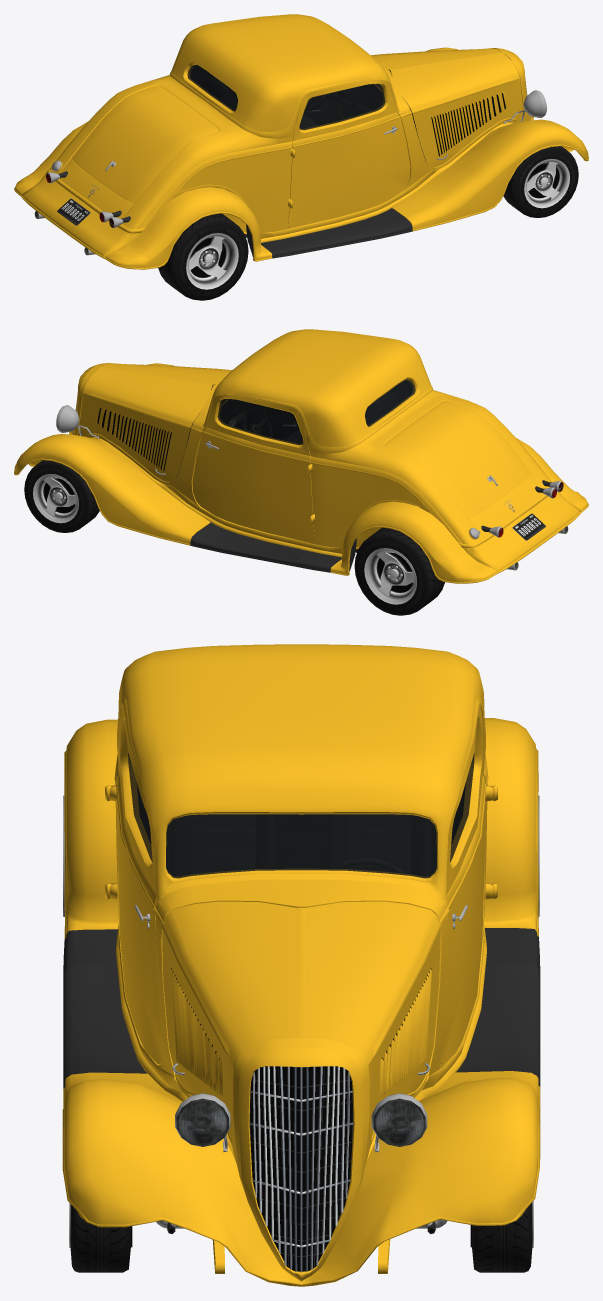
3 renders of one model, top to bottom at view 1: azimuth 30°, elevation 25°; view 2: azimuth 150°, elevation 25°; view 3: azimuth 270°, elevation 25°, orthographic. The views are drawn at different scales.
Parts seen in each view (by area): view 1: HOTROD_33A_body_HOTROD_33_bodymat_0, HOTROD_33B_Sideskirts_HOTROD_33_bodymat_0, HOTROD_33A_HoodStock_HOTROD_33_bodymat_0, HOTROD_33A_Trunkdoor_HOTROD_33_bodymat_0, HOTROD_33_WheelBlades_RR_RB1c_Tire_1k_0, HOTROD_33_WheelBlades_FR_RB1c_Tire_1k_0, HOTROD_33B_Trim_UCB_BOTTOM_0, HOTROD_33A_interior_UCB_Interiors_2_0, HOTROD_33A_Glass_Passanger_UCB_Lights_and_Glass_Transperent_, HOTROD_33A_hoodStock_inner_UCB_BOTTOM_0, HOTROD_33A_Rear_window_UCB_Lights_and_Glass_Transperent_0, HOTROD_33A_Bottom_UCB_BOTTOM_0 (+1 smaller); view 2: HOTROD_33A_body_HOTROD_33_bodymat_0, HOTROD_33B_Sideskirts_HOTROD_33_bodymat_0, HOTROD_33A_HoodStock_HOTROD_33_bodymat_0, HOTROD_33A_Trunkdoor_HOTROD_33_bodymat_0, HOTROD_33_WheelBlades_RL_RB1c_Tire_1k_0, HOTROD_33_WheelBlades_FL_RB1c_Tire_1k_0, HOTROD_33B_Trim_UCB_BOTTOM_0, HOTROD_33A_interior_UCB_Interiors_2_0, HOTROD_33A_Glass_Driver_UCB_Lights_and_Glass_Transperent_0, HOTROD_33A_hoodStock_inner_UCB_BOTTOM_0, HOTROD_33A_Rear_window_UCB_Lights_and_Glass_Transperent_0, HOTROD_33A_Bottom_UCB_BOTTOM_0 (+1 smaller); view 3: HOTROD_33A_body_HOTROD_33_bodymat_0, HOTROD_33B_Sideskirts_HOTROD_33_bodymat_0, HOTROD_33A_HoodStock_HOTROD_33_bodymat_0, HOTROD_33B_Trim_UCB_BOTTOM_0, HOTROD_33A_Bottom_UCB_BOTTOM_0, HOTROD_33A_Windshield_UCB_Lights_and_Glass_Transperent_0, HOTROD_33A_interior_UCB_Interiors_2_0, HOTROD_33B_Grill_HOTROD_33_bodymat_0, HOTROD_33B_Headlights_Glass_UCB_Lights_and_Glass_Transperent, HOTROD_33B_Headlights_UCB_Lights_and_Glass_0, HOTROD_33_WheelBlades_FL_RB1c_Tire_1k_0, HOTROD_33_WheelBlades_FR_RB1c_Tire_1k_0 (+2 smaller).
Boxes of the visible parts, box(x1,y1,x2,y2) form: HOTROD_33A_body_HOTROD_33_bodymat_0: box(47, 14, 573, 244); HOTROD_33B_Sideskirts_HOTROD_33_bodymat_0: box(14, 47, 588, 269); HOTROD_33A_HoodStock_HOTROD_33_bodymat_0: box(371, 48, 525, 170); HOTROD_33A_Trunkdoor_HOTROD_33_bodymat_0: box(72, 85, 219, 203); HOTROD_33_WheelBlades_RR_RB1c_Tire_1k_0: box(158, 213, 248, 300); HOTROD_33_WheelBlades_FR_RB1c_Tire_1k_0: box(503, 146, 578, 217); HOTROD_33B_Trim_UCB_BOTTOM_0: box(46, 90, 546, 258); HOTROD_33A_interior_UCB_Interiors_2_0: box(190, 65, 399, 128); HOTROD_33A_Glass_Passanger_UCB_Lights_and_Glass_Transperent_: box(299, 84, 385, 130); HOTROD_33A_hoodStock_inner_UCB_BOTTOM_0: box(388, 69, 505, 162); HOTROD_33A_Rear_window_UCB_Lights_and_Glass_Transperent_0: box(187, 64, 237, 111); HOTROD_33A_Bottom_UCB_BOTTOM_0: box(47, 79, 530, 228); HOTROD_33A_body_HOTROD_33_bodymat_0: box(28, 329, 567, 557); HOTROD_33B_Sideskirts_HOTROD_33_bodymat_0: box(14, 363, 588, 583); HOTROD_33A_HoodStock_HOTROD_33_bodymat_0: box(77, 363, 231, 485); HOTROD_33A_Trunkdoor_HOTROD_33_bodymat_0: box(383, 400, 530, 518); HOTROD_33_WheelBlades_RL_RB1c_Tire_1k_0: box(354, 527, 444, 615); HOTROD_33_WheelBlades_FL_RB1c_Tire_1k_0: box(24, 460, 99, 532); HOTROD_33B_Trim_UCB_BOTTOM_0: box(56, 405, 356, 572); HOTROD_33A_interior_UCB_Interiors_2_0: box(203, 380, 412, 443); HOTROD_33A_Glass_Driver_UCB_Lights_and_Glass_Transperent_0: box(217, 398, 303, 445); HOTROD_33A_hoodStock_inner_UCB_BOTTOM_0: box(97, 384, 214, 476); HOTROD_33A_Rear_window_UCB_Lights_and_Glass_Transperent_0: box(365, 379, 415, 426); HOTROD_33A_Bottom_UCB_BOTTOM_0: box(72, 397, 563, 538); HOTROD_33A_body_HOTROD_33_bodymat_0: box(105, 644, 497, 1273); HOTROD_33B_Sideskirts_HOTROD_33_bodymat_0: box(62, 718, 540, 1286); HOTROD_33A_HoodStock_HOTROD_33_bodymat_0: box(161, 901, 441, 1172); HOTROD_33B_Trim_UCB_BOTTOM_0: box(63, 928, 540, 1152); HOTROD_33A_Bottom_UCB_BOTTOM_0: box(134, 905, 467, 1272); HOTROD_33A_Windshield_UCB_Lights_and_Glass_Transperent_0: box(166, 814, 436, 878); HOTROD_33A_interior_UCB_Interiors_2_0: box(137, 784, 465, 876); HOTROD_33B_Grill_HOTROD_33_bodymat_0: box(238, 1047, 364, 1281); HOTROD_33B_Headlights_Glass_UCB_Lights_and_Glass_Transperent: box(176, 1098, 425, 1146); HOTROD_33B_Headlights_UCB_Lights_and_Glass_0: box(177, 1099, 424, 1146); HOTROD_33_WheelBlades_FL_RB1c_Tire_1k_0: box(470, 1201, 533, 1272); HOTROD_33_WheelBlades_FR_RB1c_Tire_1k_0: box(69, 1203, 132, 1272).
Size of the model in its own units: 4.28 by 1.54 by 1.79.
8 materials, 7 textured.
